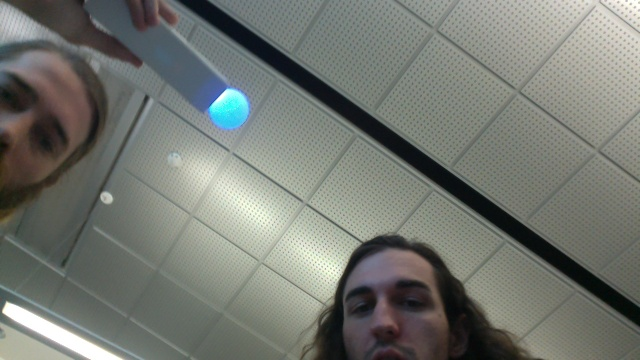wand: (210, 89, 250, 128)
